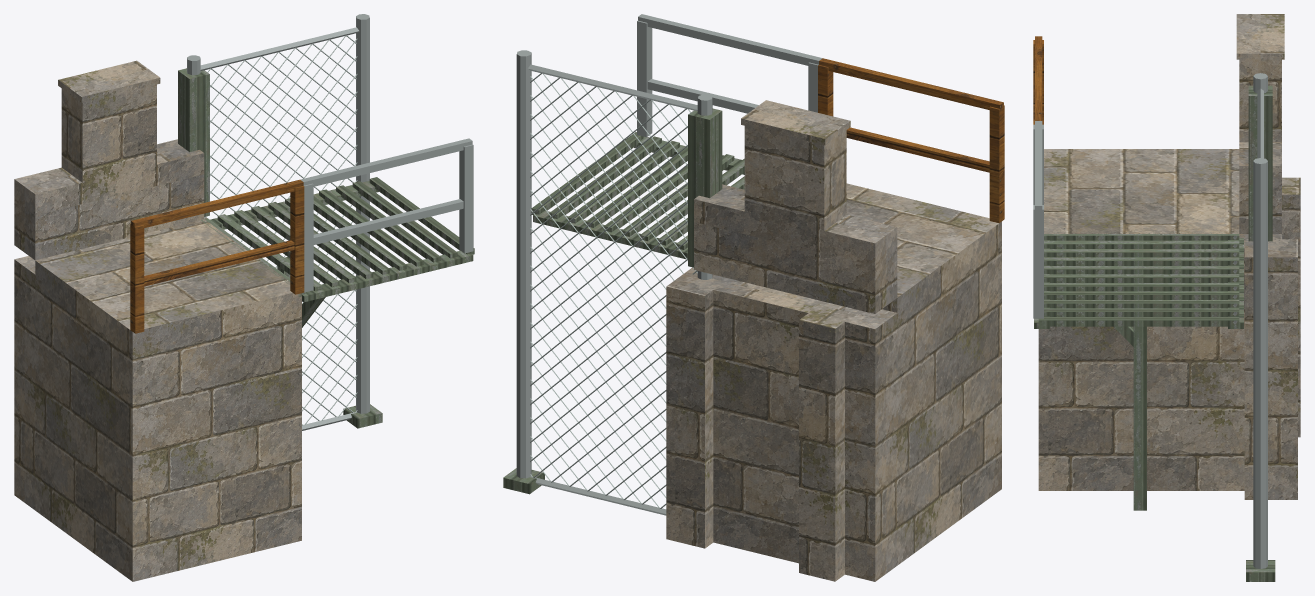
The model's file is link-castle-to-cyclone.gltf.
3 renders of one model, left to right at view 1: azimuth 30°, elevation 25°; view 2: azimuth 150°, elevation 25°; view 3: azimuth 270°, elevation 25°, orthographic. The views are drawn at different scales.
Parts seen in each view (by area): view 1: curtain-L0-stone, walkway-L1-stone, walkway-L1-metal, guards-L1-wood, fence-L0-wire, guards-L1-iron, fence-L0-iron, junction-L0-metal; view 2: curtain-L0-stone, fence-L0-wire, junction-L0-stone, walkway-L1-metal, fence-L0-iron, walkway-L1-stone, guards-L1-wood, guards-L1-iron, junction-L0-metal, fence-L0-metal; view 3: curtain-L0-stone, walkway-L1-metal, walkway-L1-stone, junction-L0-stone, fence-L0-iron, structure-L0-metal, junction-L0-metal, guards-L1-iron, guards-L1-wood, fence-L0-metal.
Part boxes in pixels (left/top/right/bottom): curtain-L0-stone: left=14, top=60, right=301, bottom=581; walkway-L1-stone: left=35, top=219, right=301, bottom=345; walkway-L1-metal: left=201, top=177, right=474, bottom=302; guards-L1-wood: left=130, top=179, right=304, bottom=333; fence-L0-wire: left=204, top=35, right=357, bottom=425; guards-L1-iron: left=300, top=138, right=473, bottom=292; fence-L0-iron: left=187, top=14, right=369, bottom=430; junction-L0-metal: left=178, top=68, right=209, bottom=216; curtain-L0-stone: left=694, top=100, right=1001, bottom=581; fence-L0-wire: left=530, top=73, right=697, bottom=508; junction-L0-stone: left=666, top=267, right=728, bottom=548; walkway-L1-metal: left=531, top=132, right=744, bottom=259; fence-L0-iron: left=516, top=50, right=712, bottom=515; walkway-L1-stone: left=846, top=183, right=1001, bottom=312; guards-L1-wood: left=818, top=58, right=1004, bottom=222; guards-L1-iron: left=637, top=14, right=822, bottom=137; junction-L0-metal: left=688, top=108, right=722, bottom=267; fence-L0-metal: left=503, top=468, right=544, bottom=494; curtain-L0-stone: left=1038, top=14, right=1300, bottom=490; walkway-L1-metal: left=1034, top=232, right=1243, bottom=328; walkway-L1-stone: left=1044, top=149, right=1239, bottom=233; junction-L0-stone: left=1244, top=239, right=1297, bottom=499; fence-L0-iron: left=1253, top=73, right=1267, bottom=568; structure-L0-metal: left=1114, top=326, right=1146, bottom=510; junction-L0-metal: left=1248, top=85, right=1272, bottom=241; guards-L1-iron: left=1033, top=121, right=1043, bottom=318; guards-L1-wood: left=1033, top=36, right=1043, bottom=124; fence-L0-metal: left=1246, top=560, right=1275, bottom=581.
Bounding box in the file's own units: 3.11 × 3.42 × 2.
5 materials, 3 textured.
